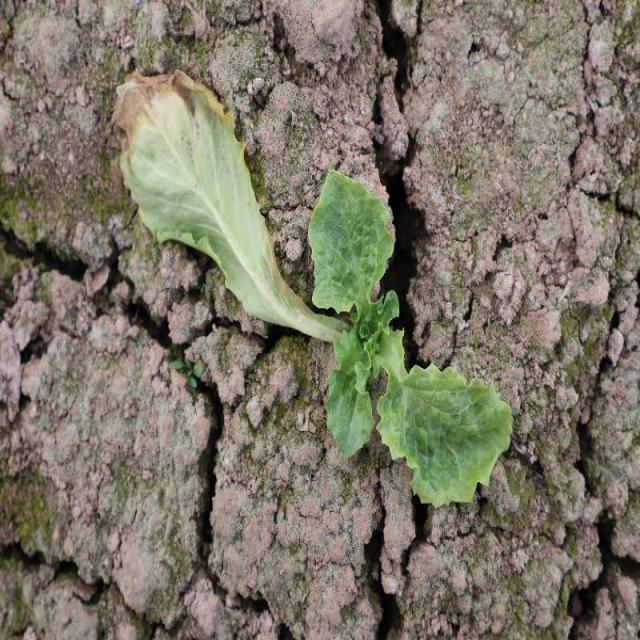crop: (309, 164, 513, 508)
